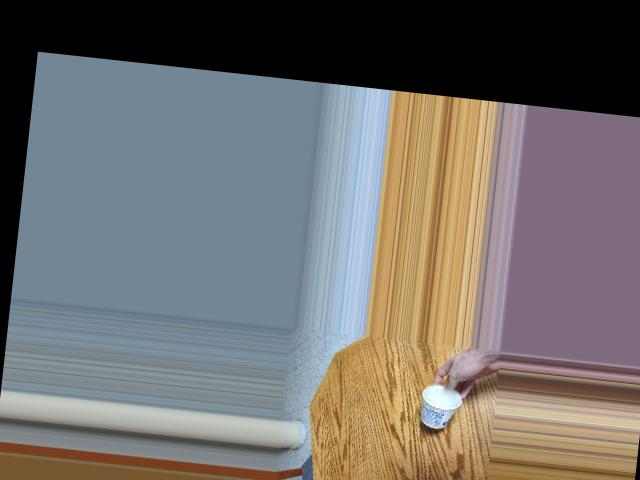cotage: (414, 385, 461, 431)
